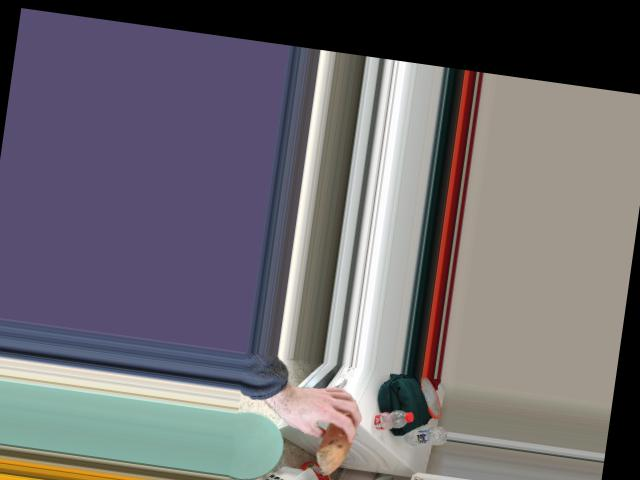sweet_potato: (315, 402, 355, 474)
